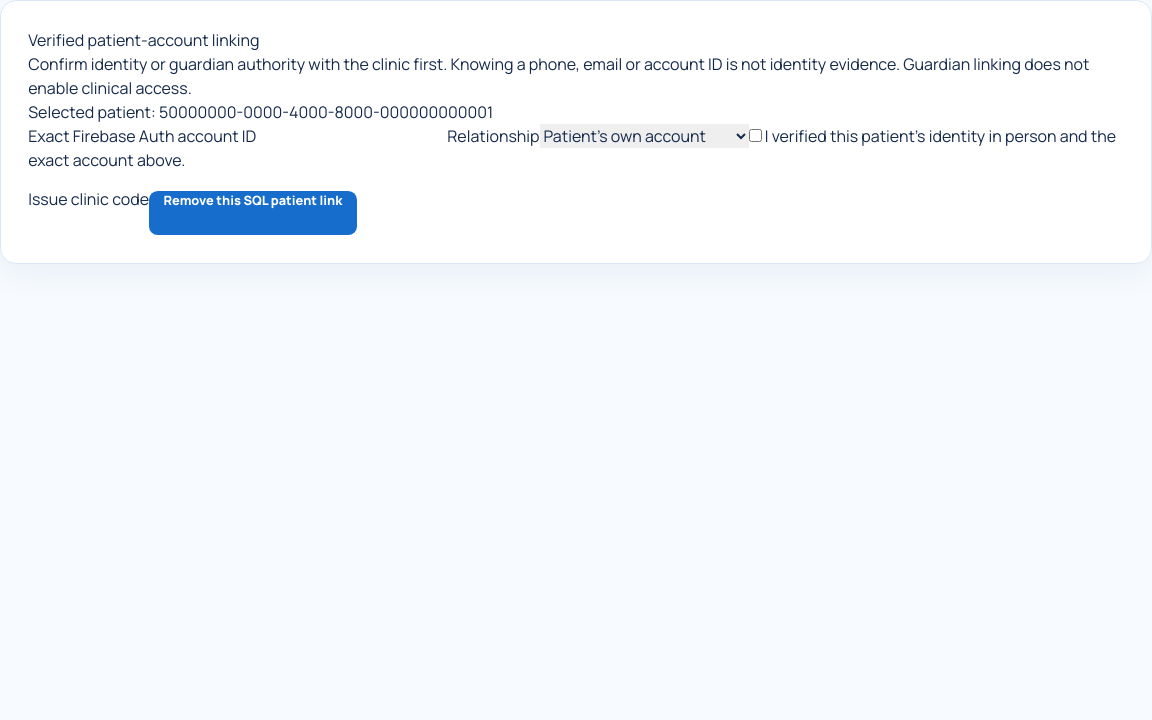
Test: B006: unconfirmed issue and revoke responses never claim success
This screenshot has width=1152, height=720.
Type "synthetic-account-uid" into the field labelled "Exact Firebase Auth account ID" at (352, 136), box [256,124,447,148]
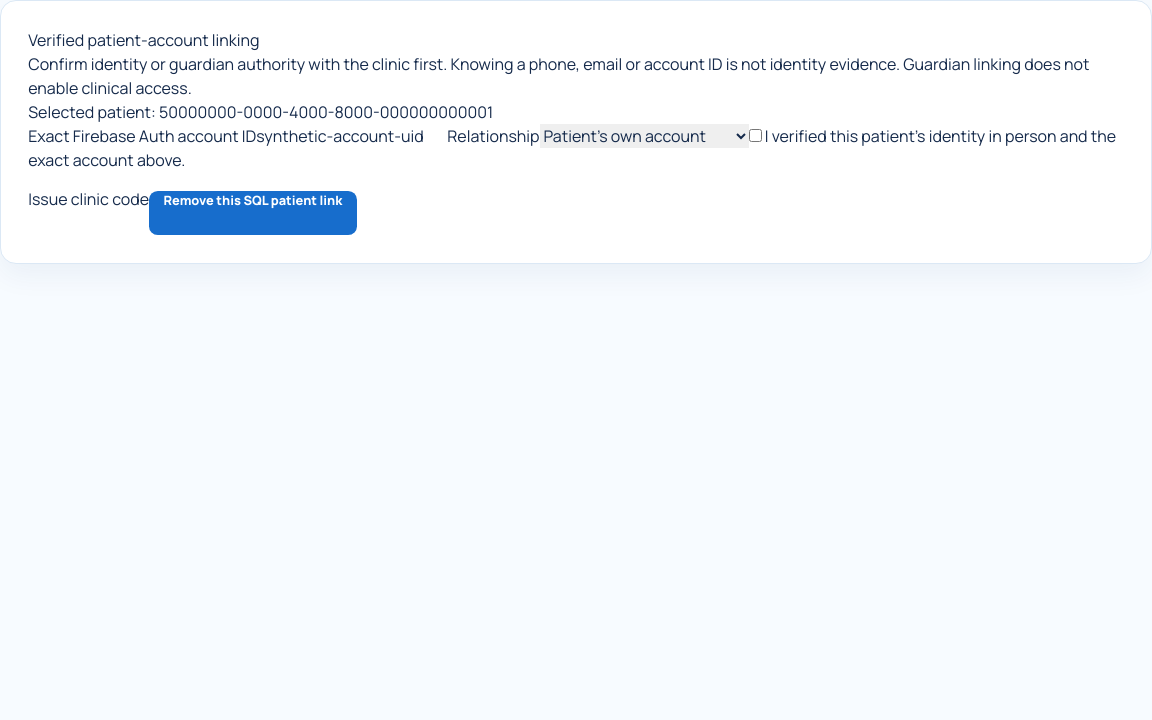
Click the checkbox at (755, 136), box [749,129,762,142]
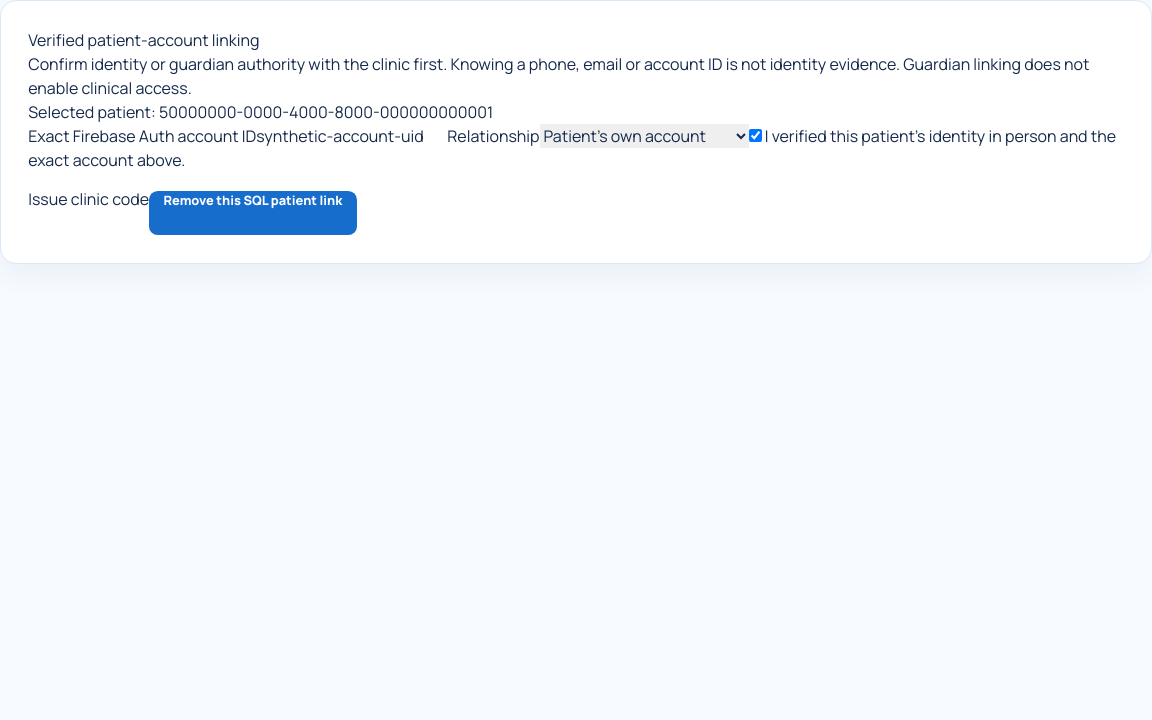
Click the button "Issue clinic code" at (89, 199), box [28,187,149,211]
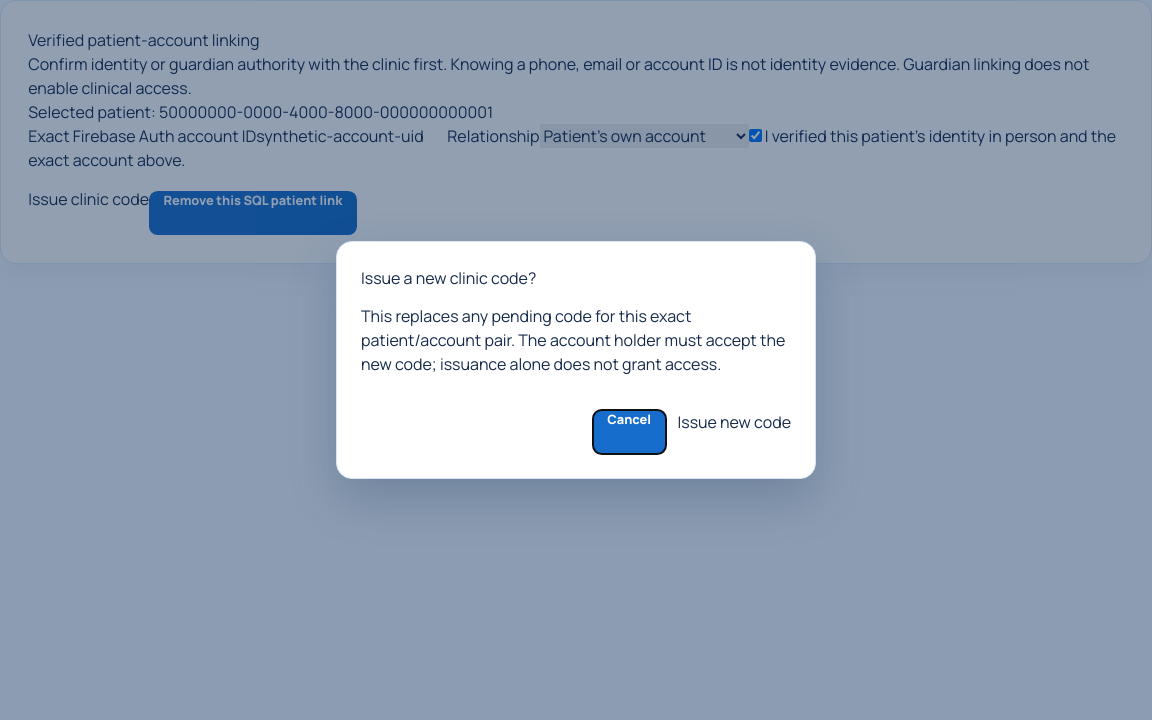
Click the button "Issue new code" at (734, 422), box [678,391,791,454]
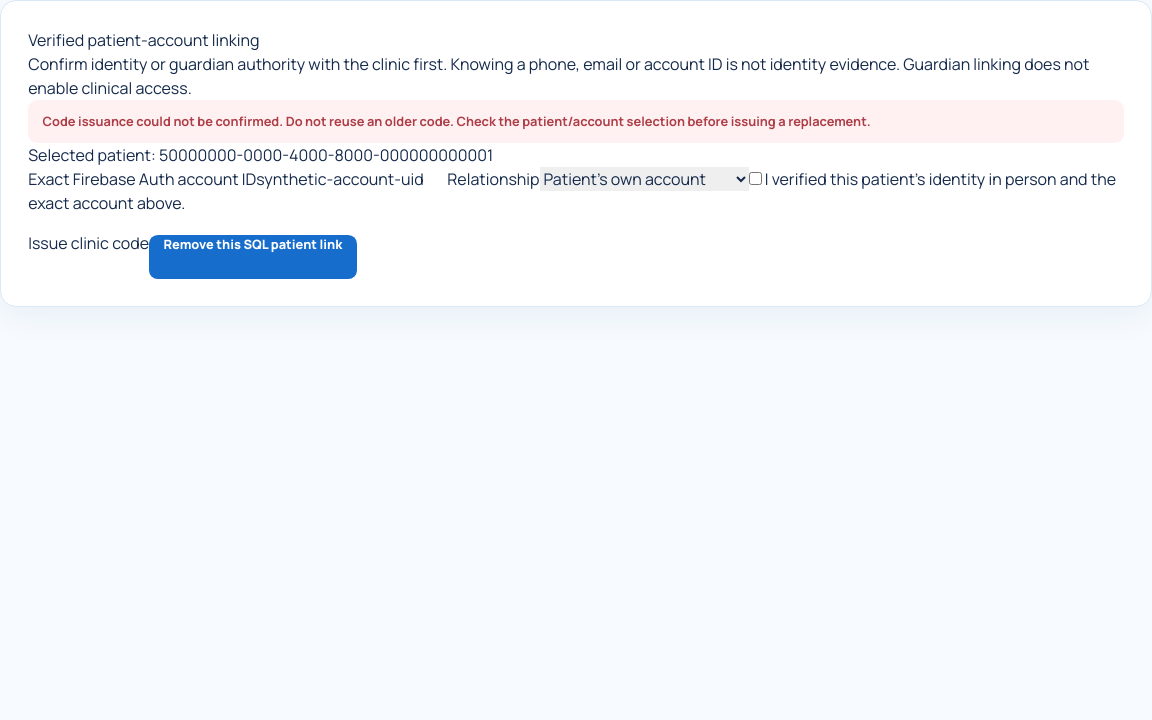
Check: the message shows "Code issuance could not be confirmed", box [43,112,871,130]
Click the button "Remove this SQL patient link" at (253, 257), box [149,235,357,279]
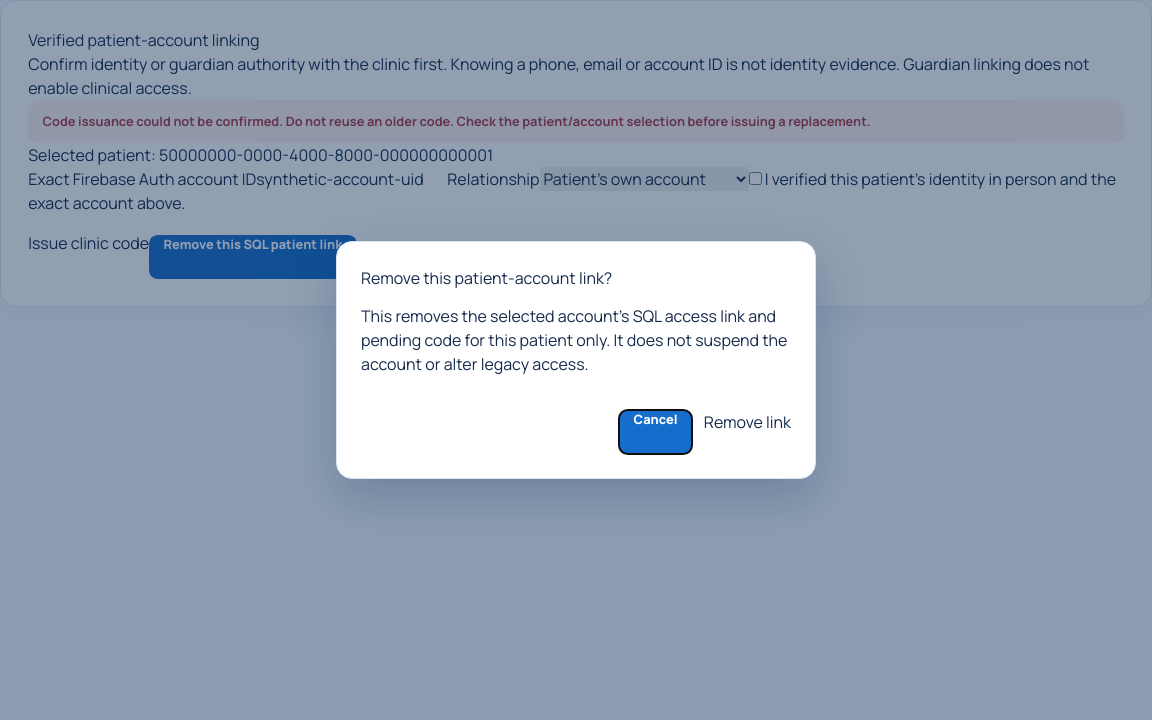
Click the button "Remove link" at (747, 422), box [704,391,791,454]
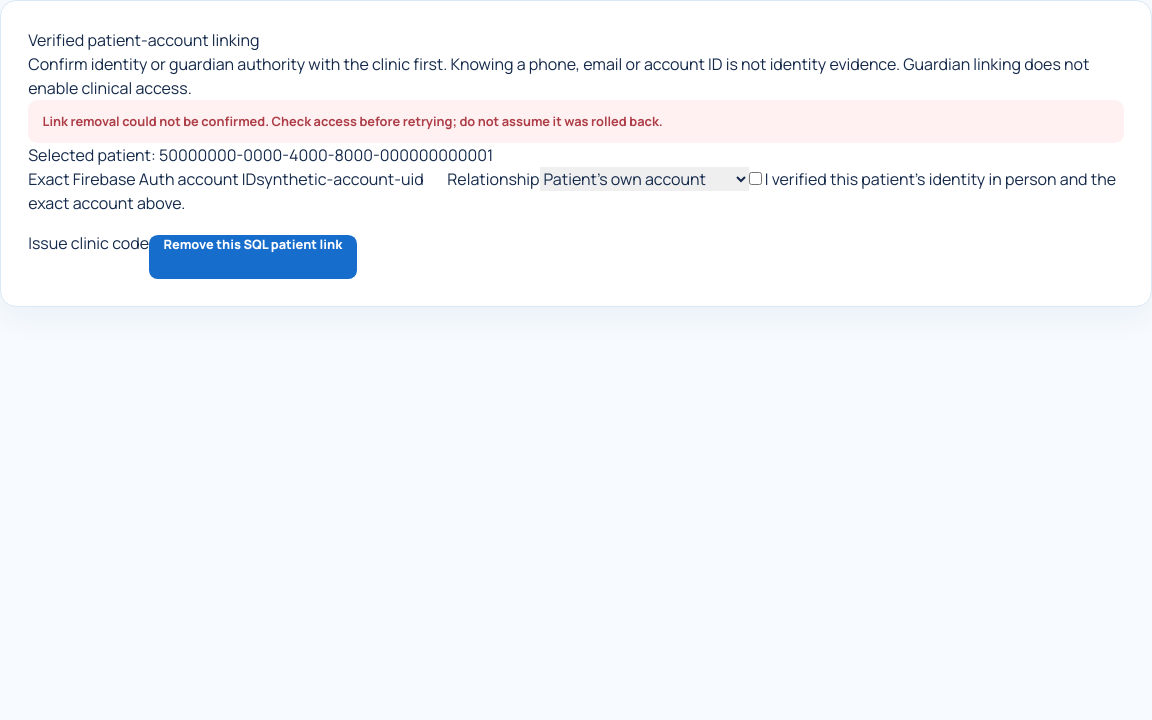
Check: the message shows "Link removal could not be confirmed", box [43,112,663,130]
